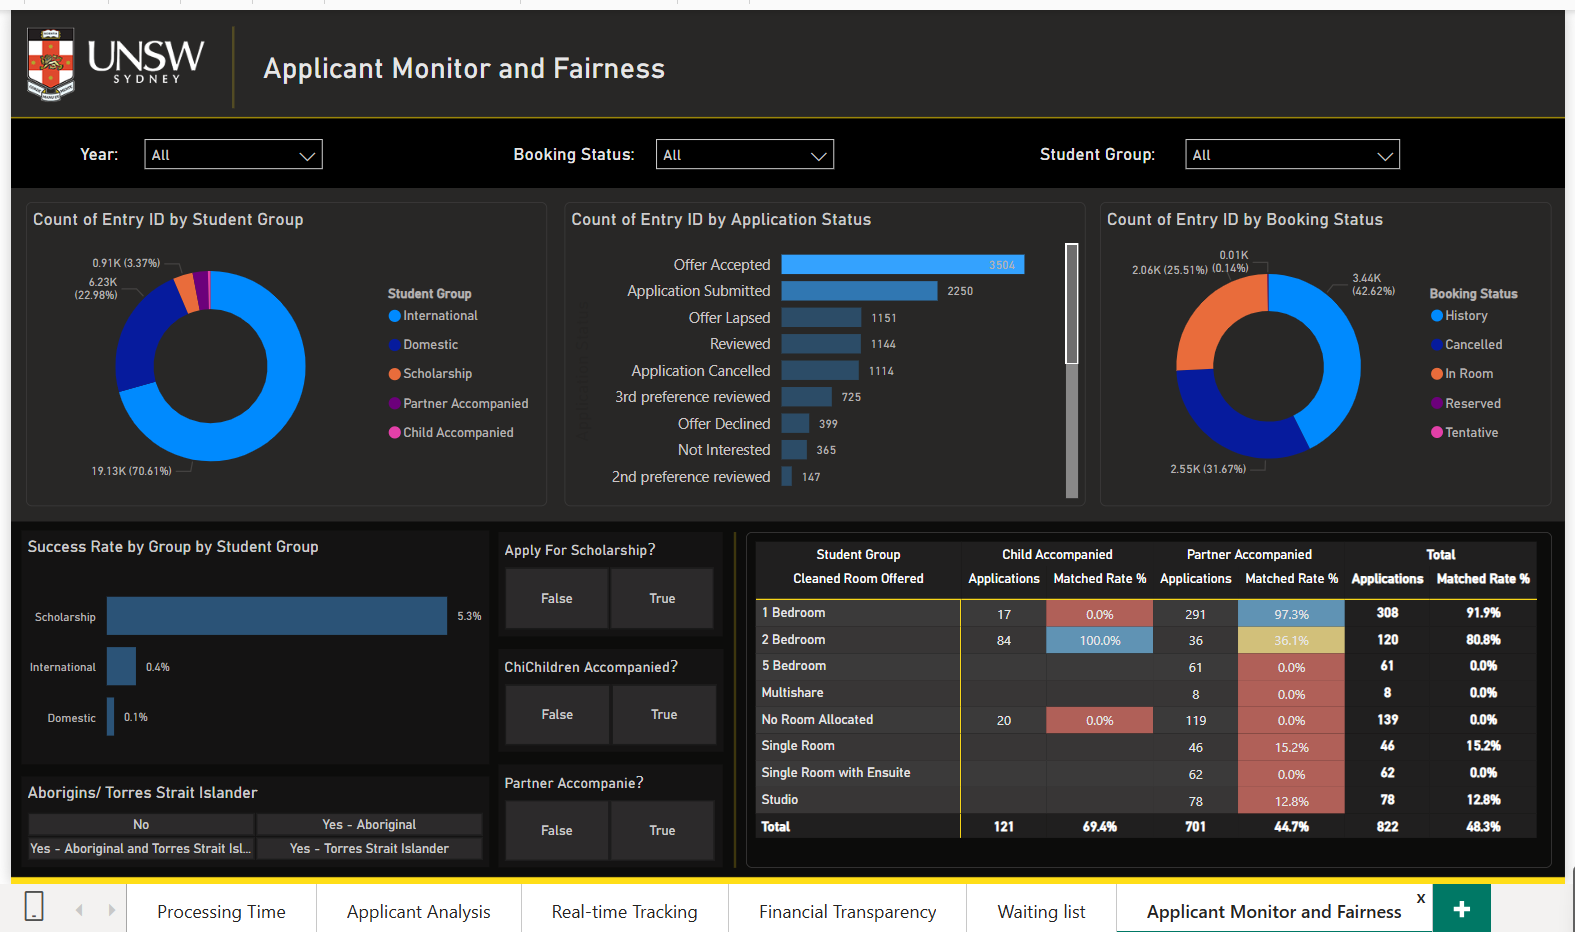

What the dashboard file says about the page in this screenshot:
{"tool":"powerbi","page":{"name":"Applicant Monitor and Fairness","canvas":[1280,720],"ordinal":5},"visuals":[{"type":"shape","box":[170.3,13.1,25.2,67.5],"z":0},{"type":"shape","box":[0,421,1280,293.1],"z":1000},{"type":"shape","box":[207.2,13,398.1,67.3],"z":2000},{"type":"slicer","fields":{"Values":["2025 T1 sandbox INFS.Application Date.Variation.Date Hierarchy.Year"]},"box":[99.6,96.2,166.4,44.1],"z":4000},{"type":"slicer","fields":{"Values":["2025 T1 sandbox INFS.Booking Status"]},"box":[521.9,96.2,166.4,44.1],"z":5000},{"type":"slicer","fields":{"Values":["2025 T1 sandbox INFS.Student Group"]},"box":[957.5,96.2,196.9,44.1],"z":6000},{"type":"shape","box":[56.6,96.2,43,44.1],"z":7000},{"type":"shape","box":[414.4,96.5,107.4,43.4],"z":8000},{"type":"shape","box":[847.7,96.2,109.8,44.1],"z":9000},{"type":"donutChart","fields":{"Y":["Count(2025 T1 sandbox INFS.Entry ID)"],"Category":["2025 T1 sandbox INFS.Booking Status"]},"box":[897.1,158.4,372.1,250.6],"z":10000},{"type":"clusteredBarChart","fields":{"Category":["2025 T1 sandbox INFS.Application Status"],"Y":["Count(2025 T1 sandbox INFS.Entry ID)"]},"box":[455.6,158.4,429.6,250.6],"z":11000},{"type":"donutChart","fields":{"Y":["CountNonNull(2025 T1 sandbox INFS.Entry ID)"],"Category":["2025 T1 sandbox INFS.Student Group"]},"box":[11.9,158.4,429.6,250.6],"z":12000},{"type":"clusteredBarChart","fields":{"Category":["2025 T1 sandbox INFS.Student Group"],"Y":["2025 T1 sandbox INFS.Success Rate by Group"]},"box":[9.1,429.4,385,192.5],"z":13000},{"type":"pivotTable","fields":{"Columns":["2025 T1 sandbox INFS.Student Group"],"Values":["CountNonNull(2025 T1 sandbox INFS.Entry ID)","2025 T1 sandbox INFS.Matched Rate %"],"Rows":["2025 T1 sandbox INFS.Cleaned Room Offered"]},"box":[616.1,429.5,664.2,277.2],"z":14000},{"type":"advancedSlicerVisual","title":"Apply For Scholarship？","fields":{"Values":["2025 T1 sandbox INFS.Apply For Scholarship"]},"box":[401.4,429.6,184.4,85.7],"z":15000},{"type":"advancedSlicerVisual","title":"ChiChildren Accompanied？","fields":{"Values":["2025 T1 sandbox INFS.Children Accompanied"]},"box":[401.4,526.1,185.5,84.6],"z":16000},{"type":"advancedSlicerVisual","title":"Partner Accompanie？","fields":{"Values":["2025 T1 sandbox INFS.Partner Accompanied"]},"box":[401.4,621.6,184.4,84.6],"z":17000},{"type":"advancedSlicerVisual","title":"Aborigins/ Torres Strait Islander","fields":{"Values":["2025 T1 sandbox INFS.Aboriginal Or Torres Strait Islander"]},"box":[9.1,630.9,385,74.6],"z":18000},{"type":"shape","box":[589,429.6,14.1,276.6],"z":19000}]}

Visuals, with their boxes on the page's 1280x720 design canvas (x1, y1, x2, y2). These are canvas units, not pixel positions in the 1575x932 screenshot, which may show the page scaled, cropped or inside an application window:
shape: (170,13,196,81)
shape: (0,421,1280,714)
shape: (207,13,605,80)
slicer - 2025 T1 sandbox INFS.Application Date.Variation.Date Hierarchy.Year: (100,96,266,140)
slicer - 2025 T1 sandbox INFS.Booking Status: (522,96,688,140)
slicer - 2025 T1 sandbox INFS.Student Group: (958,96,1154,140)
shape: (57,96,100,140)
shape: (414,96,522,140)
shape: (848,96,958,140)
donutChart - Count(2025 T1 sandbox INFS.Entry ID) x 2025 T1 sandbox INFS.Booking Status: (897,158,1269,409)
clusteredBarChart - 2025 T1 sandbox INFS.Application Status x Count(2025 T1 sandbox INFS.Entry ID): (456,158,885,409)
donutChart - CountNonNull(2025 T1 sandbox INFS.Entry ID) x 2025 T1 sandbox INFS.Student Group: (12,158,442,409)
clusteredBarChart - 2025 T1 sandbox INFS.Student Group x 2025 T1 sandbox INFS.Success Rate by Group: (9,429,394,622)
pivotTable - 2025 T1 sandbox INFS.Student Group x CountNonNull(2025 T1 sandbox INFS.Entry ID): (616,430,1280,707)
"Apply For Scholarship？" advancedSlicerVisual: (401,430,586,515)
"ChiChildren Accompanied？" advancedSlicerVisual: (401,526,587,611)
"Partner Accompanie？" advancedSlicerVisual: (401,622,586,706)
"Aborigins/ Torres Strait Islander" advancedSlicerVisual: (9,631,394,706)
shape: (589,430,603,706)
